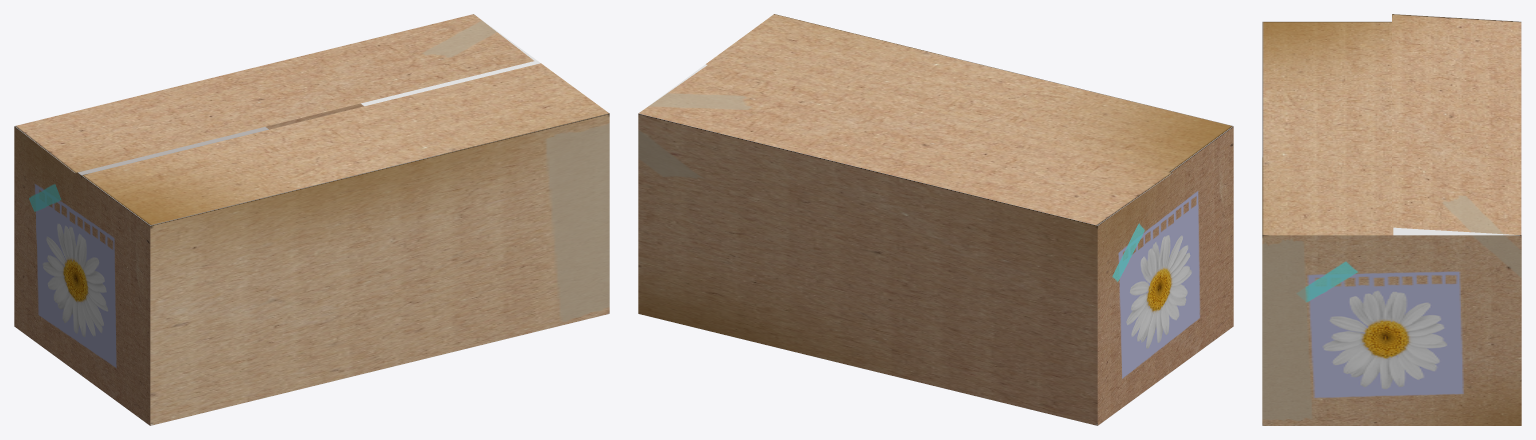
File: cajita.glb
3 renders of one model, left to right at view 1: azimuth 30°, elevation 25°; view 2: azimuth 150°, elevation 25°; view 3: azimuth 270°, elevation 25°, orthographic. The views are drawn at different scales.
Visible parts, largest first — view 1: Cube; view 2: Cube; view 3: Cube.
Part boxes in pixels (box(x1,y1,x2,y2)): Cube: box(14, 14, 609, 425); Cube: box(638, 14, 1233, 425); Cube: box(1262, 14, 1521, 425).
Size of the model in its own units: 2.12 by 0.8876 by 1.07.
1 material, 1 textured.
